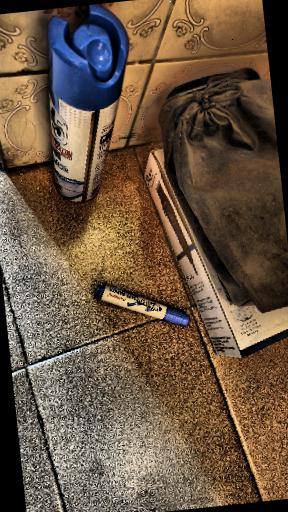marcador azul: (94, 283, 189, 326)
